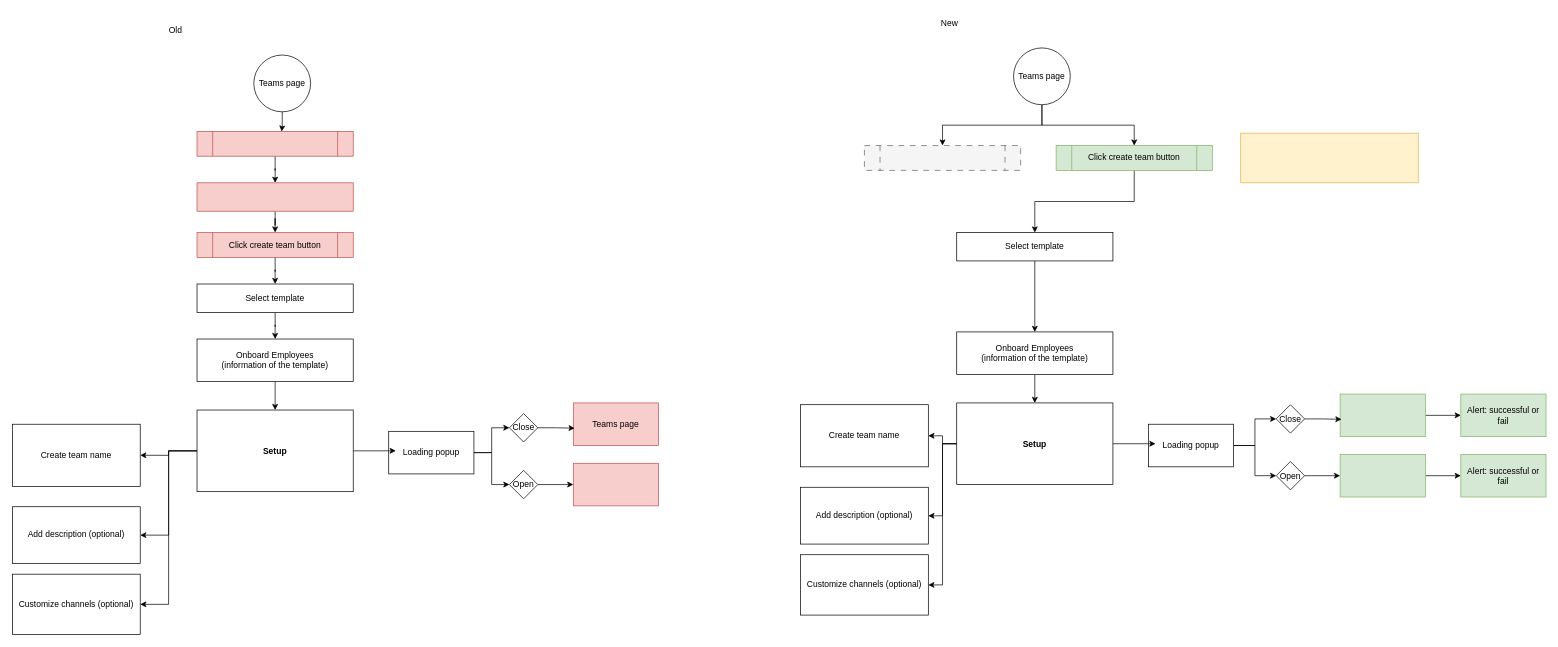
The diagram is 1558 pixels wide and 647 high, and some of its shapes have lost their labels. Each missing label, with the box of its shape:
Buttons Type: either two buttons or dropdown selection: (1240, 132, 1418, 183)
Click join: (864, 145, 1021, 170)
Click join or create team button: (196, 131, 353, 156)
It close when a new channel created: (1339, 454, 1425, 497)
Join or create a team page: (196, 182, 353, 211)
Loading popup stay until I close it and not notification: (573, 463, 659, 506)
Teams page with Progression bar: (1339, 393, 1425, 437)
